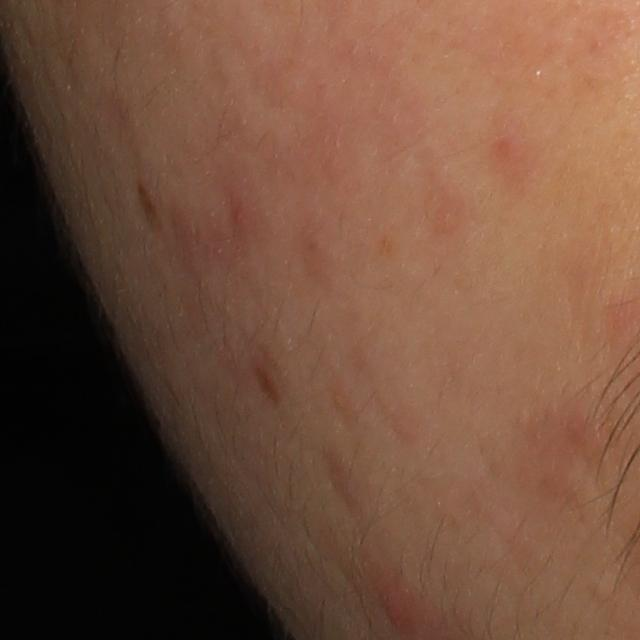papule: (373, 574, 415, 635), (229, 198, 253, 233)
